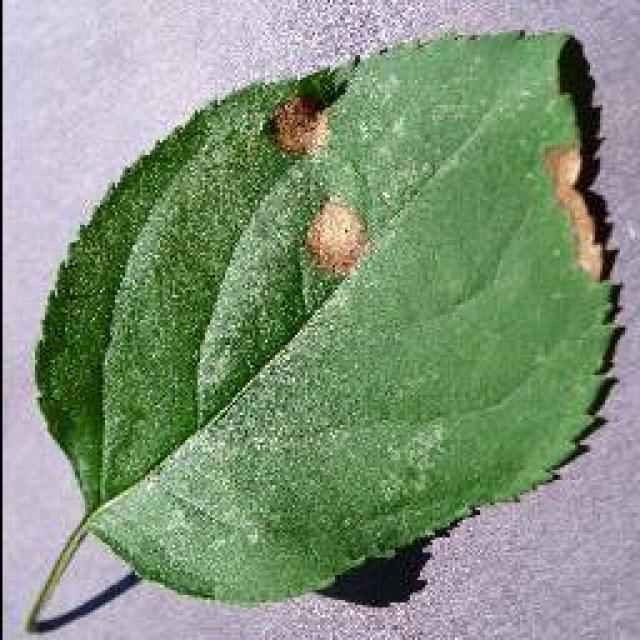Black_rot: (25, 25, 625, 633)
